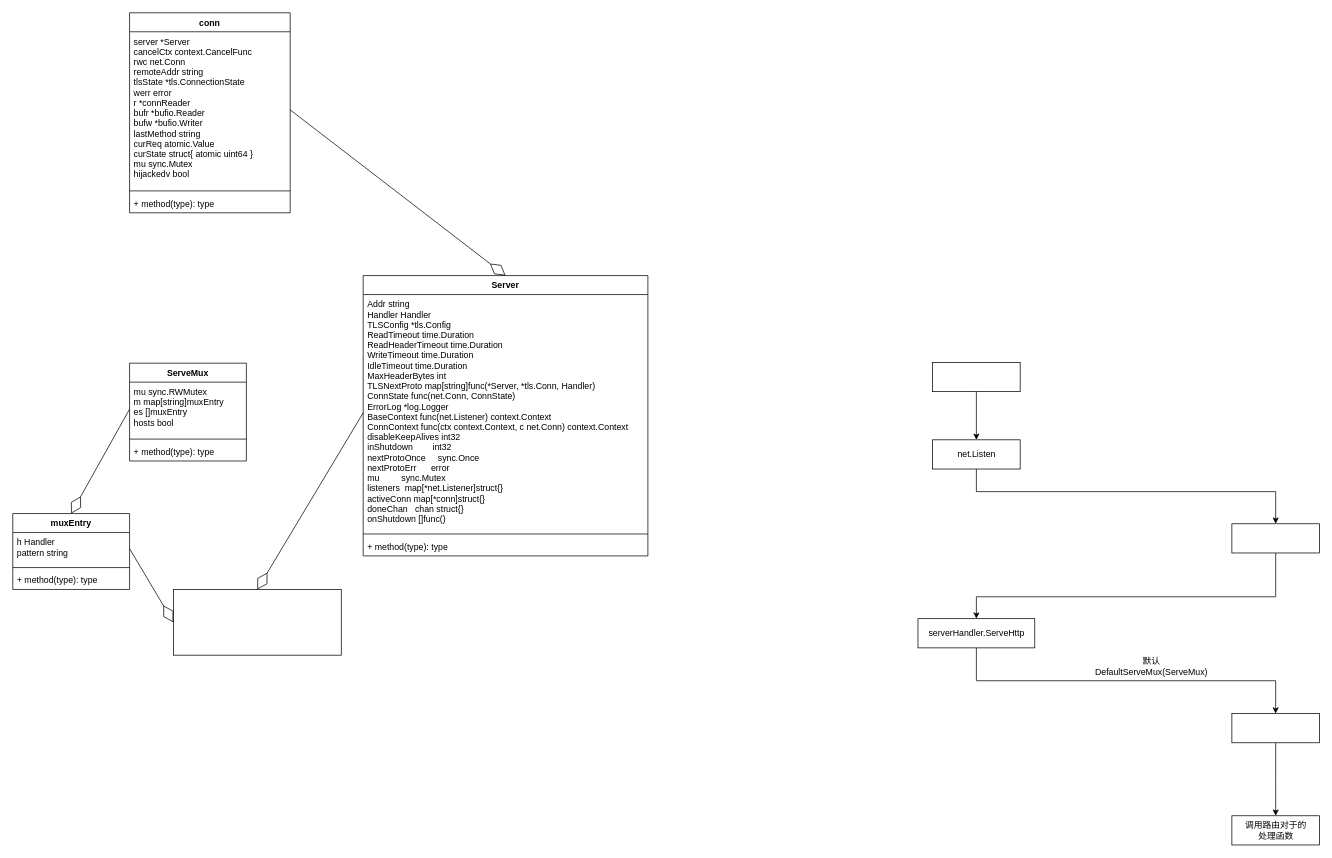
Some shapes in this 1332 by 858 pixel diagram are drawn without their labels. Each missing label, with the centre of its shape:
"<<Interface>> Interface ServeHTTP(ResponseWriter, *Request)" belongs at (257,622).
"conn.Serve" belongs at (1275,538).
"ListenAndServe" belongs at (976,377).
"ServeMux. Handler" belongs at (1275,728).
